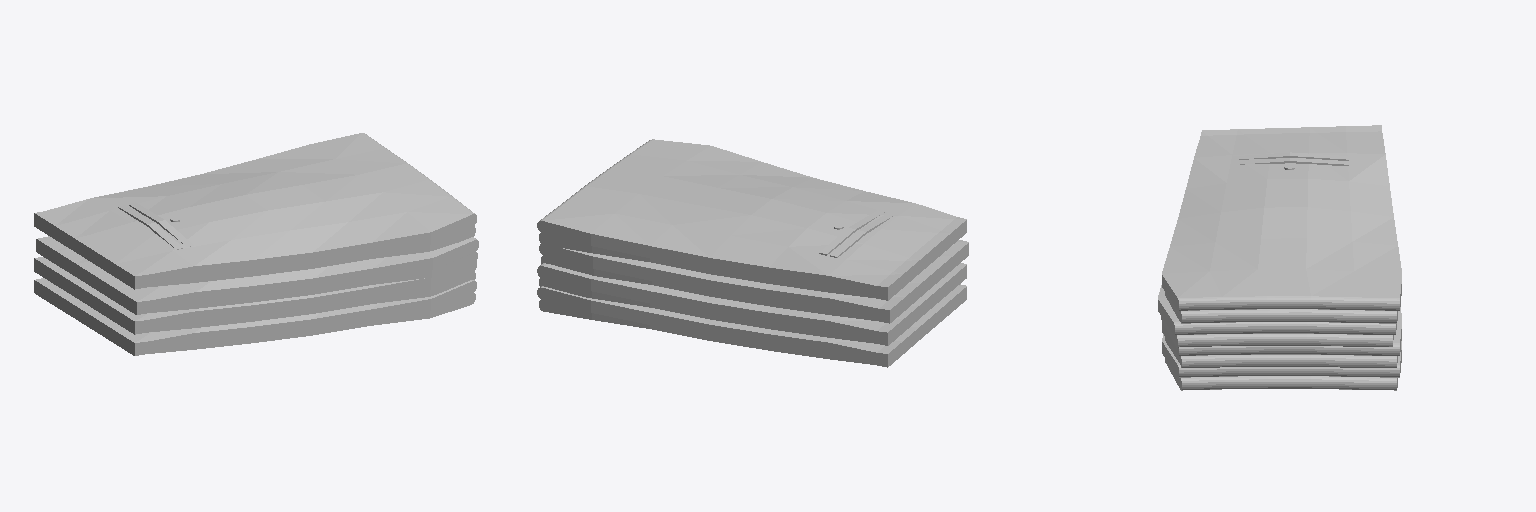
File: calcetines.obj
3 views of the same model, side by side, from view 1: azimuth 30°, elevation 25°; view 2: azimuth 150°, elevation 25°; view 3: azimuth 270°, elevation 25° (orthographic).
Parts seen in each view (by area): view 1: Cube.105, Cube.106, Cube.110, Cube.107, Cube.104; view 2: Cube.105, Cube.107, Cube.106, Cube.110, Cube.104; view 3: Cube.105, Cube.106, Cube.110, Cube.107, Cube.104.
Part boxes in pixels (x1,y1,x2,y2): Cube.105: (34,133,476,289); Cube.106: (36,236,478,314); Cube.110: (34,278,476,355); Cube.107: (34,257,476,334); Cube.104: (118,202,193,249); Cube.105: (537,139,966,300); Cube.107: (537,263,966,345); Cube.106: (539,240,968,323); Cube.110: (537,284,966,367); Cube.104: (819,210,894,257); Cube.105: (1162,125,1401,323); Cube.106: (1158,285,1396,347); Cube.110: (1162,334,1401,390); Cube.107: (1162,307,1401,367); Cube.104: (1232,152,1348,165).
Bounding box in the file's own units: 0.2844 × 0.0845 × 0.1765.